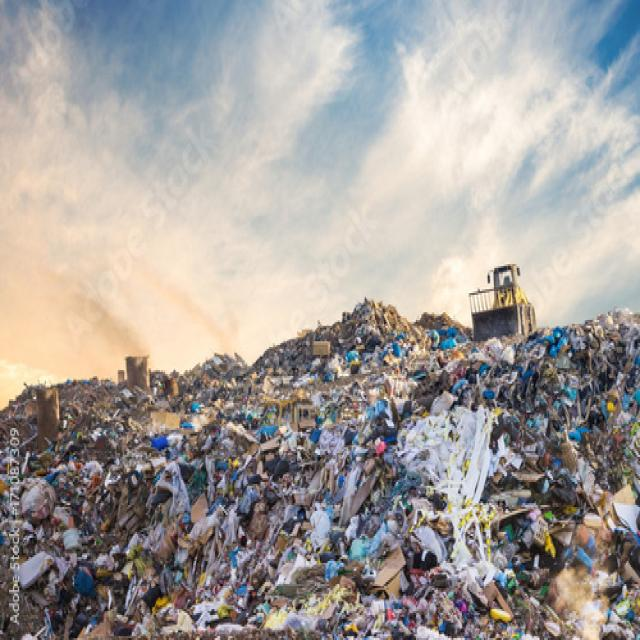trash: (54, 395, 635, 625), (302, 334, 567, 384)
